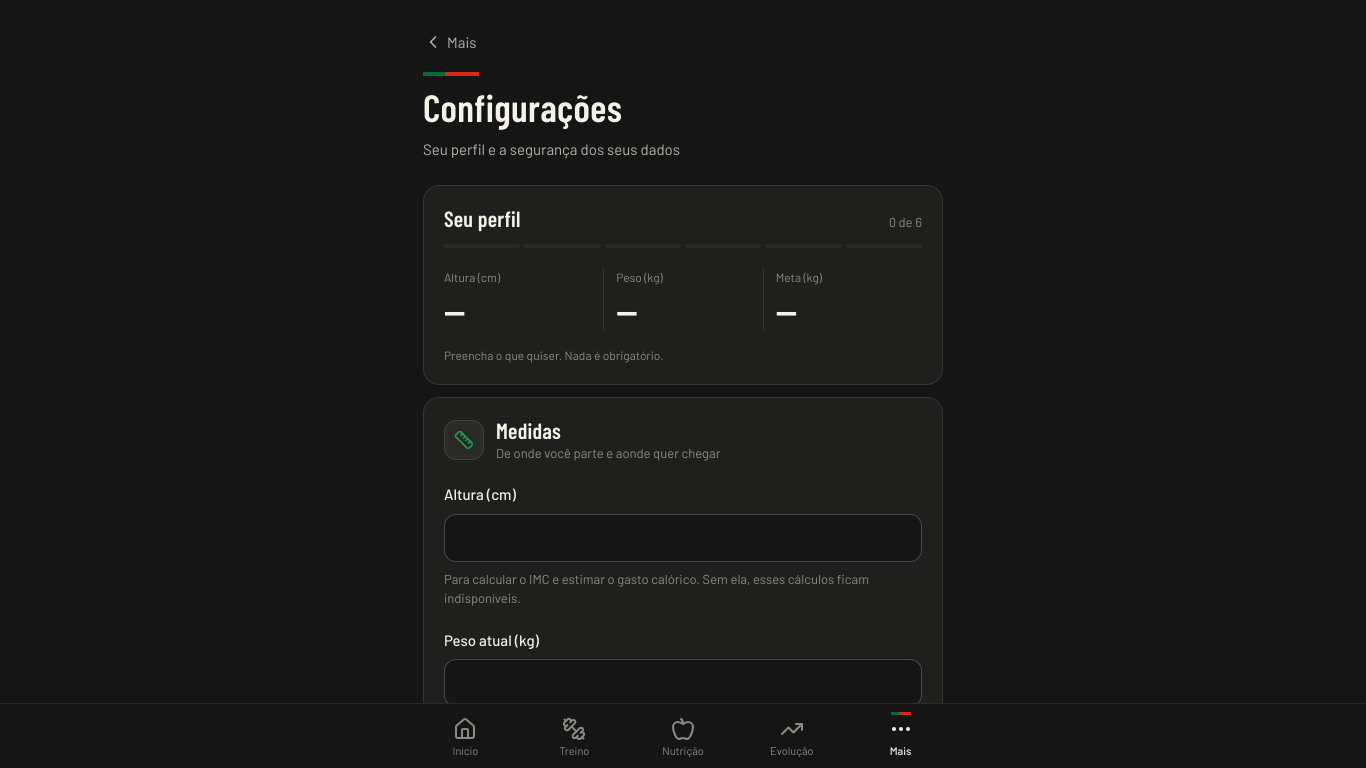
Scenario: Configurações › mostra o erro e não grava dados inválidos
Type "5" into the field labelled "Altura (cm)".
click(683, 538); type("5")  # box x1=444 y1=514 x2=922 y2=562
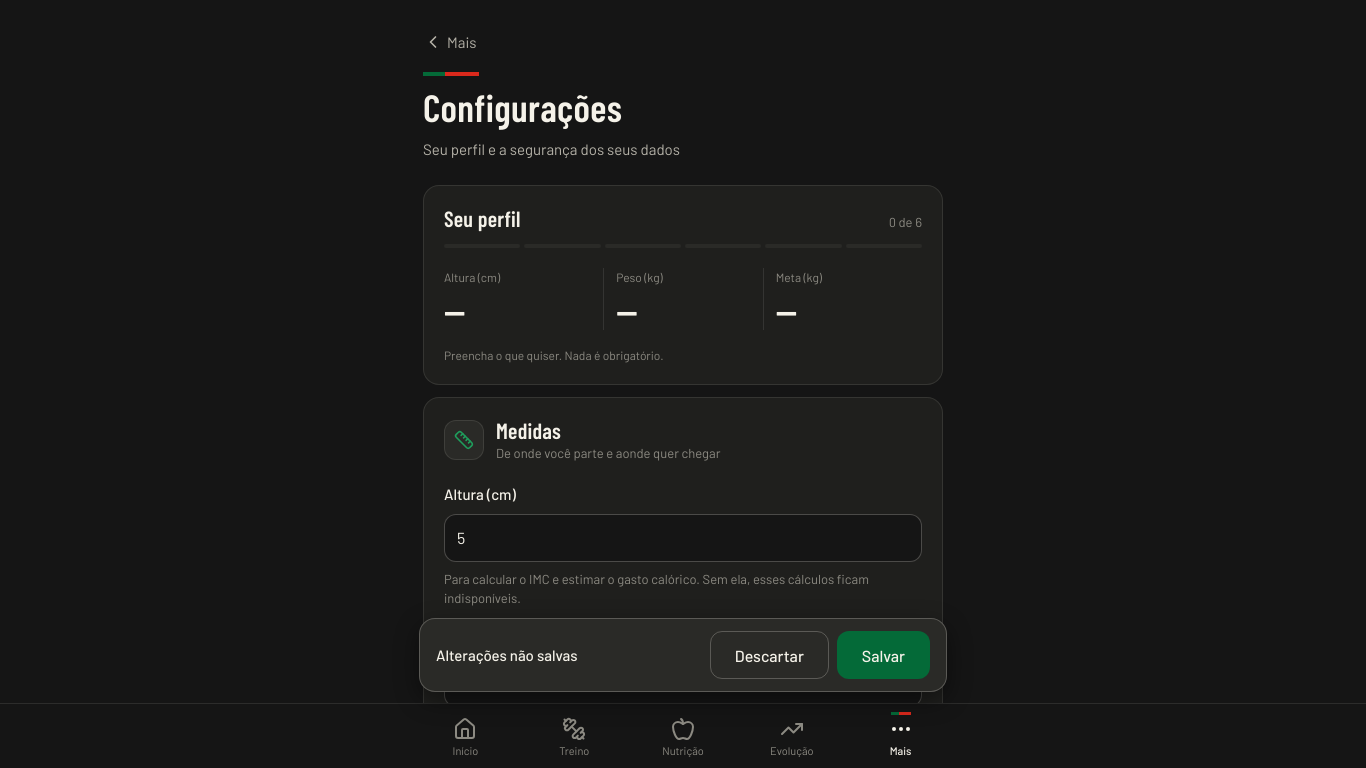
Click the button "Salvar".
click(883, 655)  # box x1=837 y1=631 x2=930 y2=679
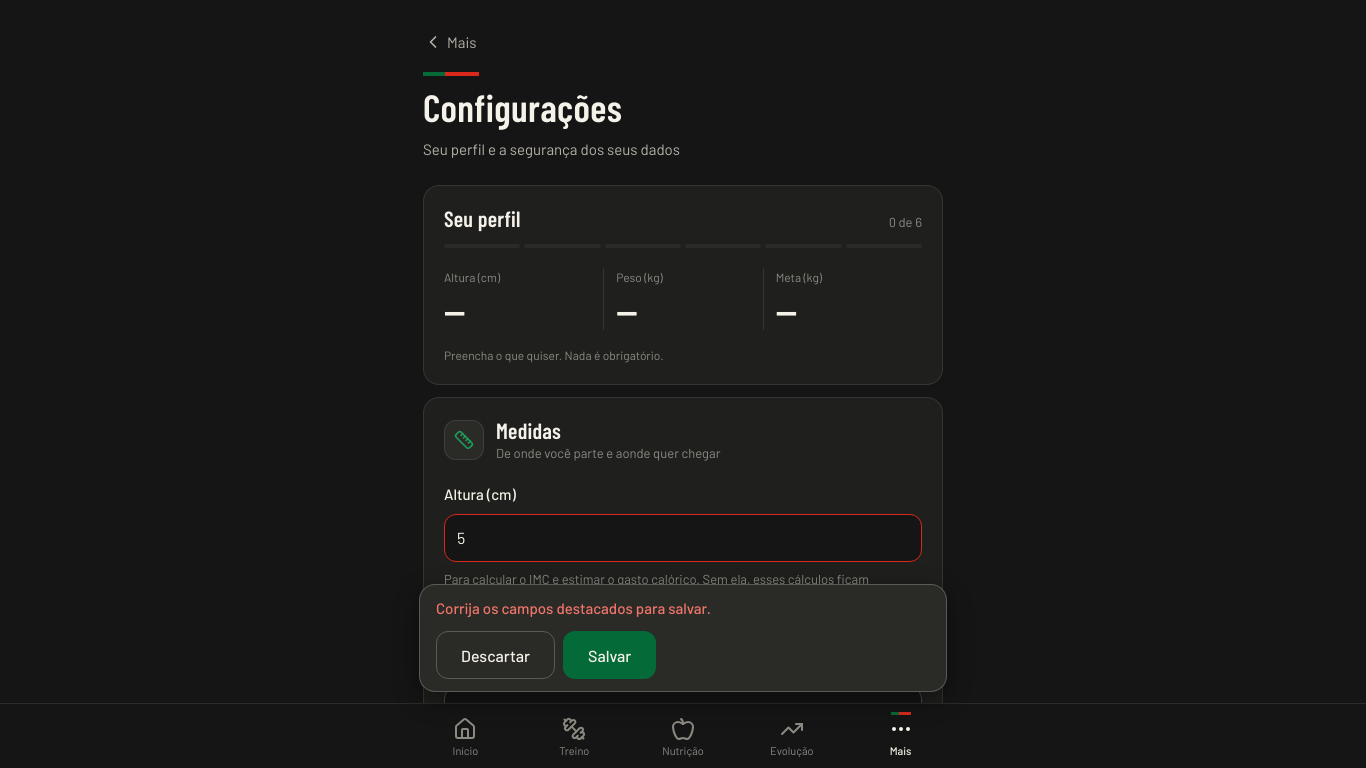
Expected: the text "Informe uma altura entre 100 e 250 cm." is shown, x1=444 y1=618 x2=661 y2=634
